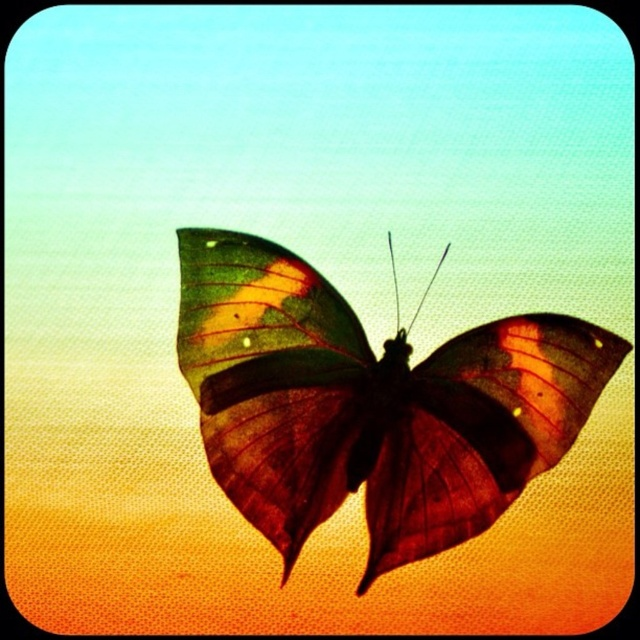Butterfly: (178, 212, 590, 612)
